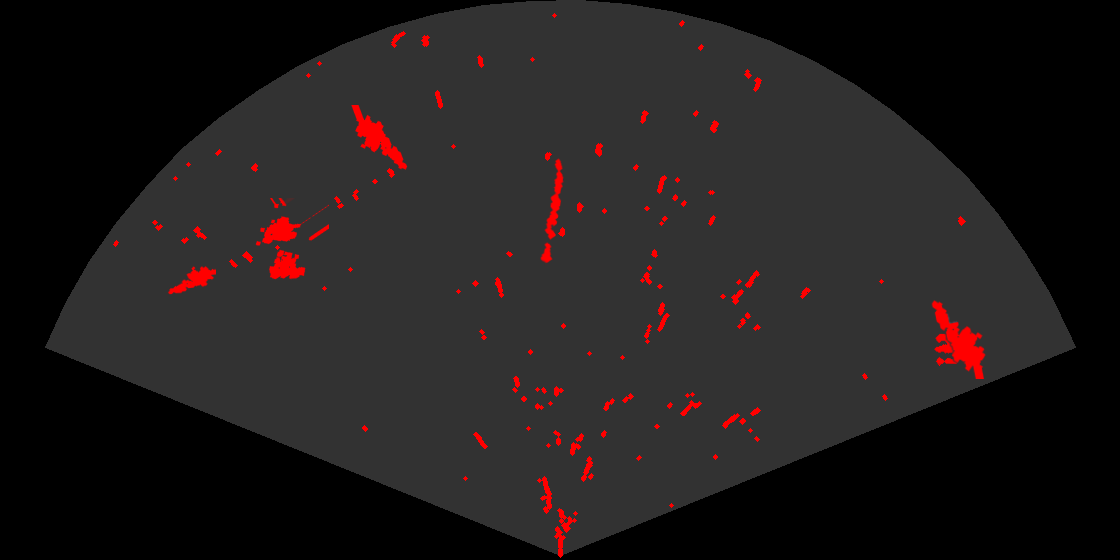ball: (933, 332, 965, 366)
cage: (254, 198, 329, 281)
chain: (539, 157, 565, 266)
frogman: (930, 299, 987, 379), (350, 105, 409, 171), (166, 265, 216, 296)
